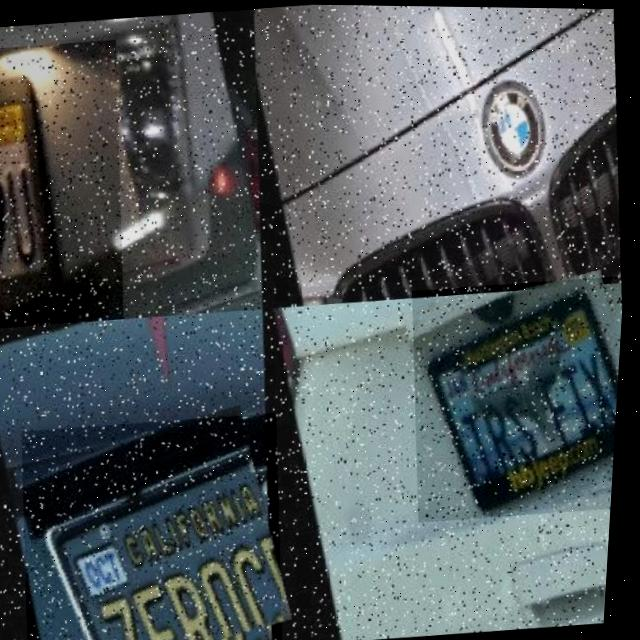LicensePlate: (17, 409, 301, 640), (404, 271, 628, 522), (0, 38, 140, 331)
